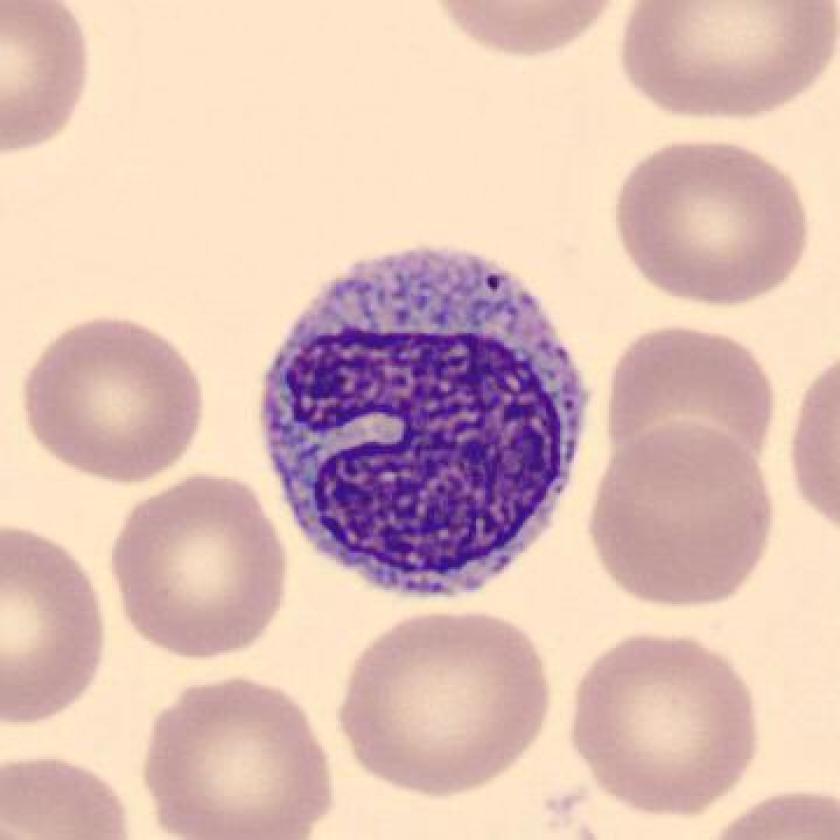monocyte: (239, 216, 612, 617)
